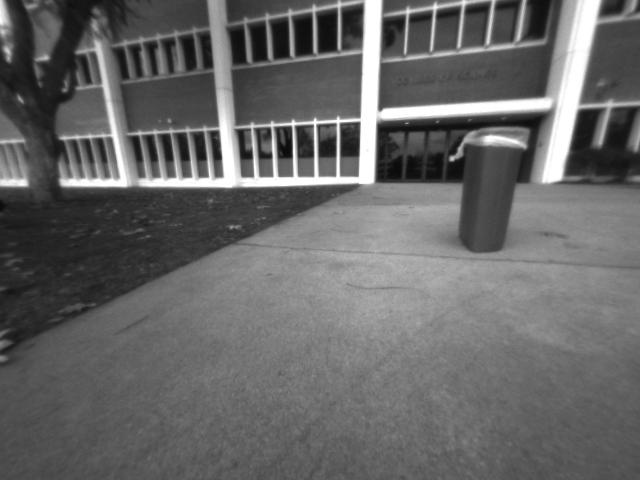trashcan: (451, 120, 541, 266)
